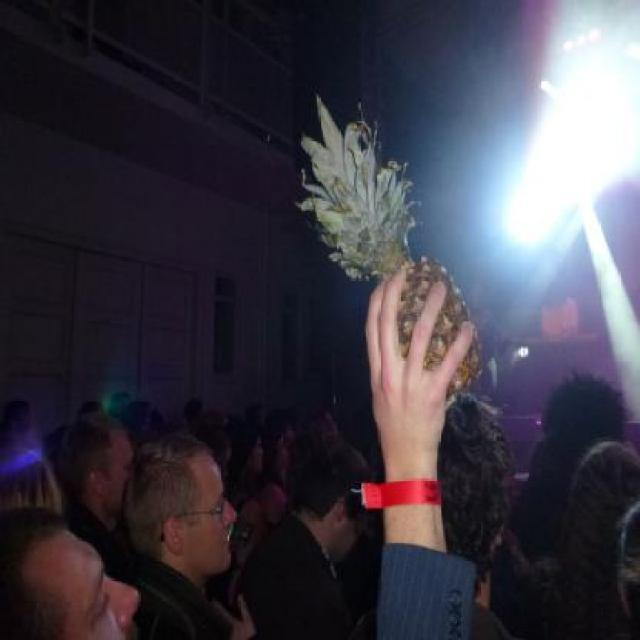Pineapple: (290, 90, 482, 408)
